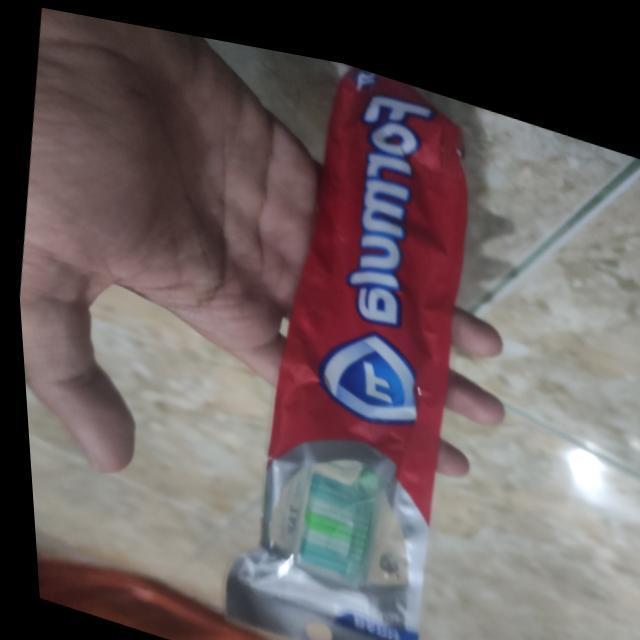toothbrush: (284, 98, 431, 585)
